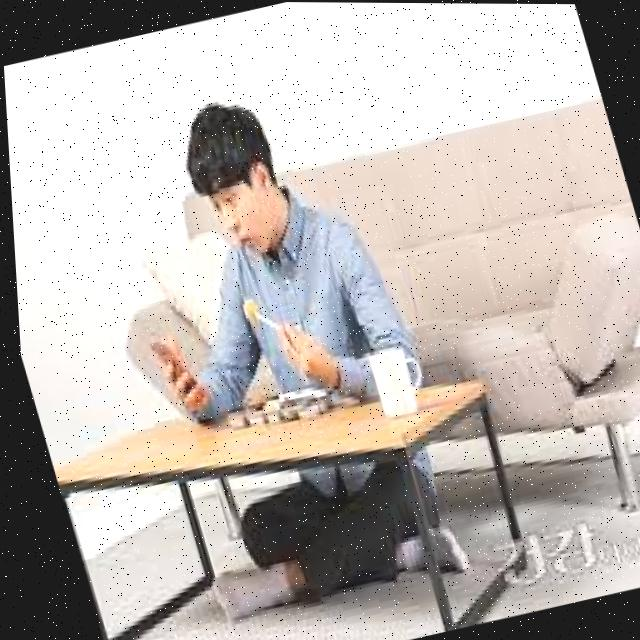eating-person: (55, 44, 488, 640)
